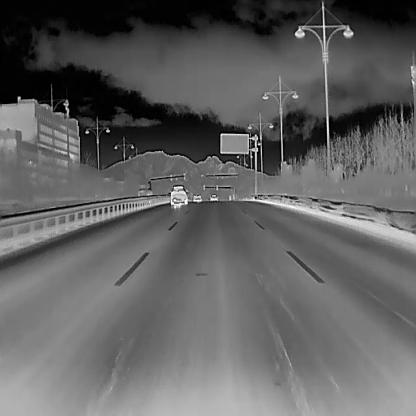bus: (136, 187, 154, 203)
car: (166, 184, 188, 206), (192, 192, 202, 202), (208, 193, 217, 202)
